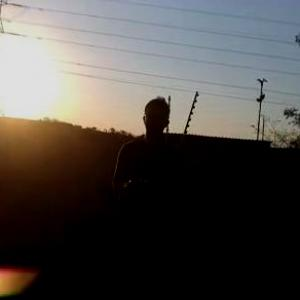follow: (110, 91, 185, 299)
